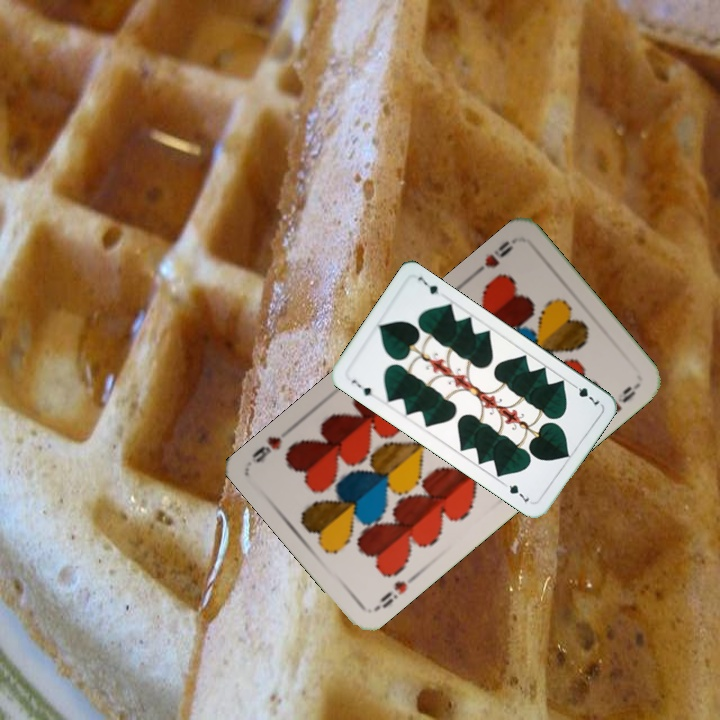G7: (567, 379, 602, 410), (347, 375, 380, 401)
H9: (468, 236, 516, 279), (376, 570, 420, 611)
